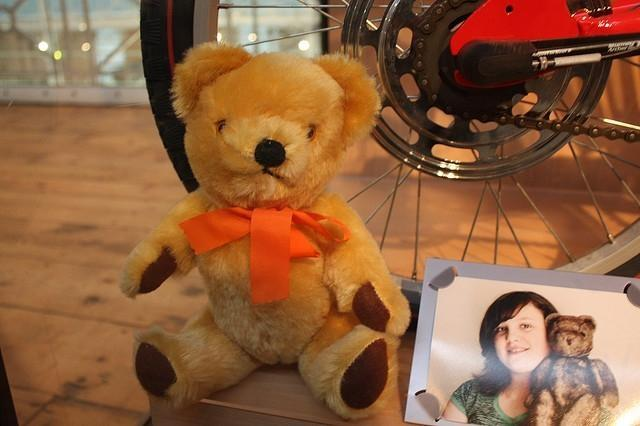bicycle: (142, 1, 640, 330)
